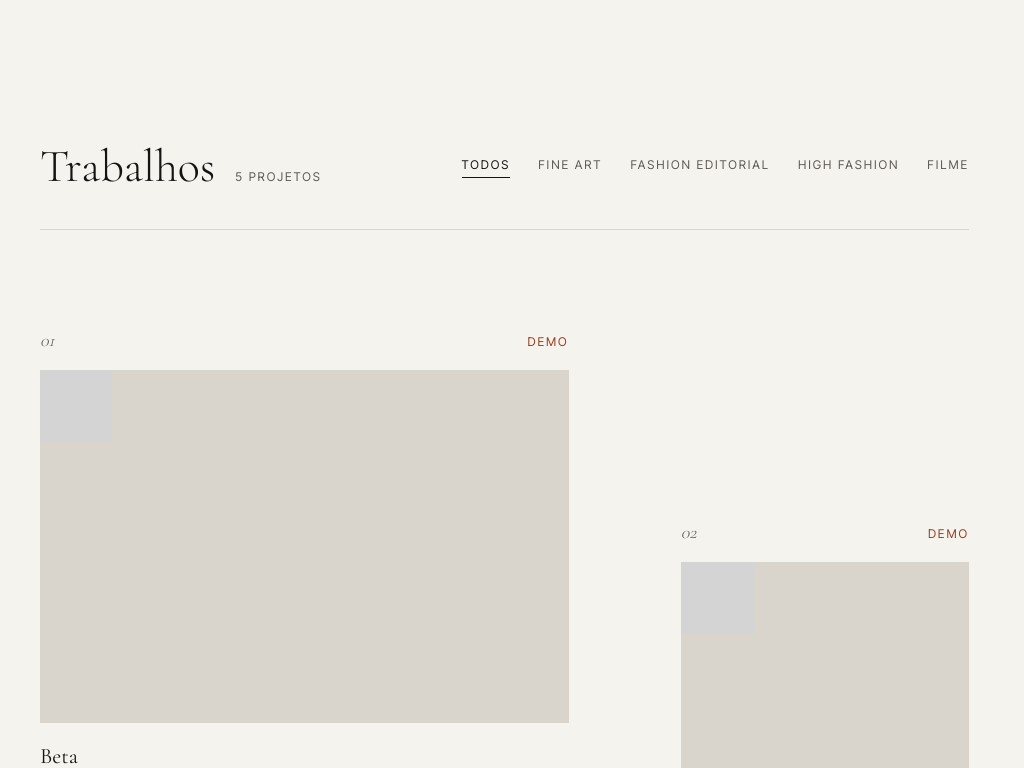
EditorialGrid › CA-06: ao escolher uma categoria exibe só os projetos dela e atualiza o contador
Click the button "Fine Art". click: (570, 167)
box: [526,145,614,189]
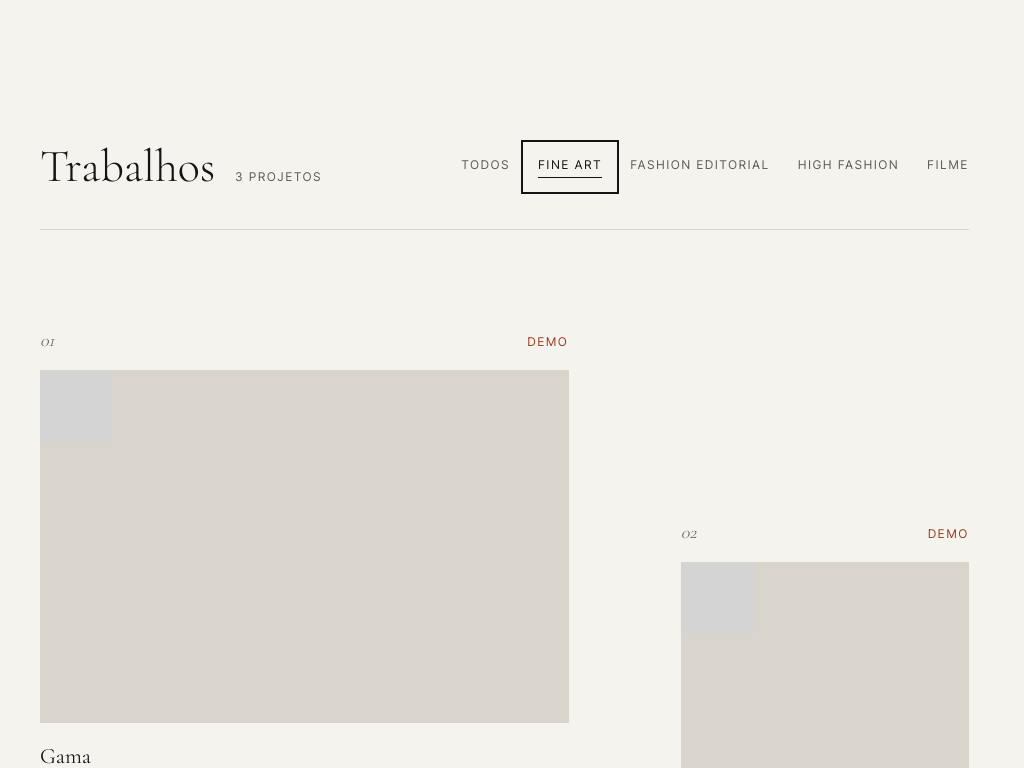
Expected: the text "3 projetos" is shown, [235,169,322,186]
Expected: the button "Fine Art" is pressed, [526,145,614,189]
Expected: the button "Todos" is not pressed, [450,145,522,189]
Click the button "High Fashion". click: (849, 167)
box: [786,145,911,189]
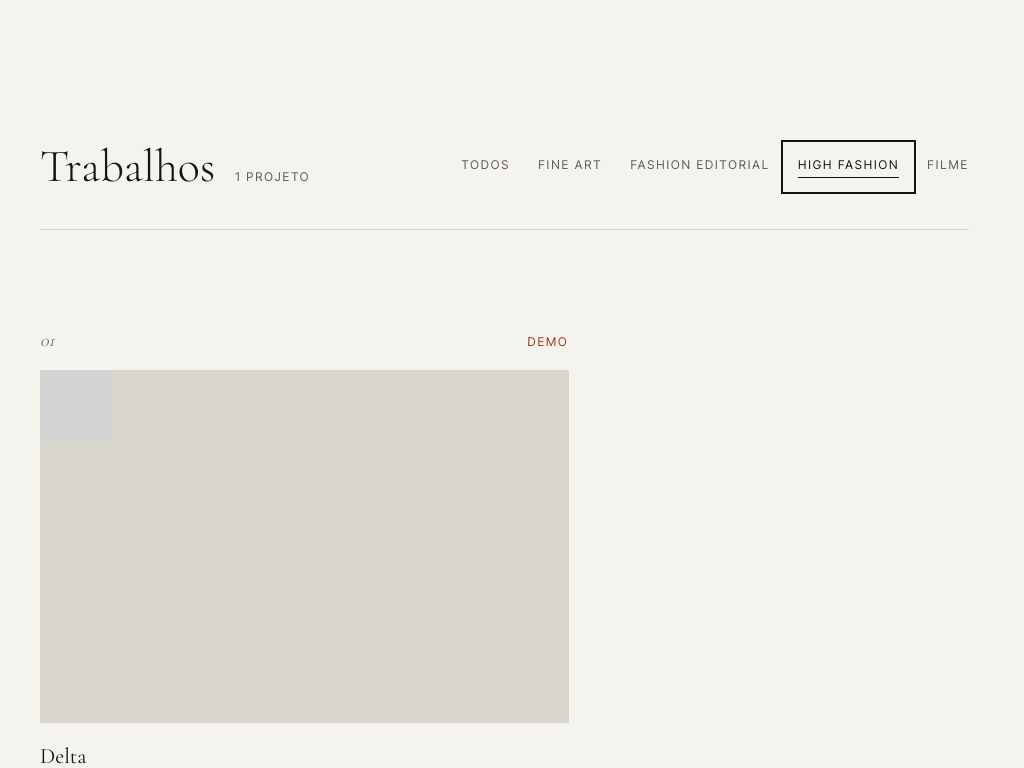
Expected: the text "1 projeto" is shown, [235,169,310,186]
Click the button "Todos". click: (486, 167)
box: [450,145,522,189]
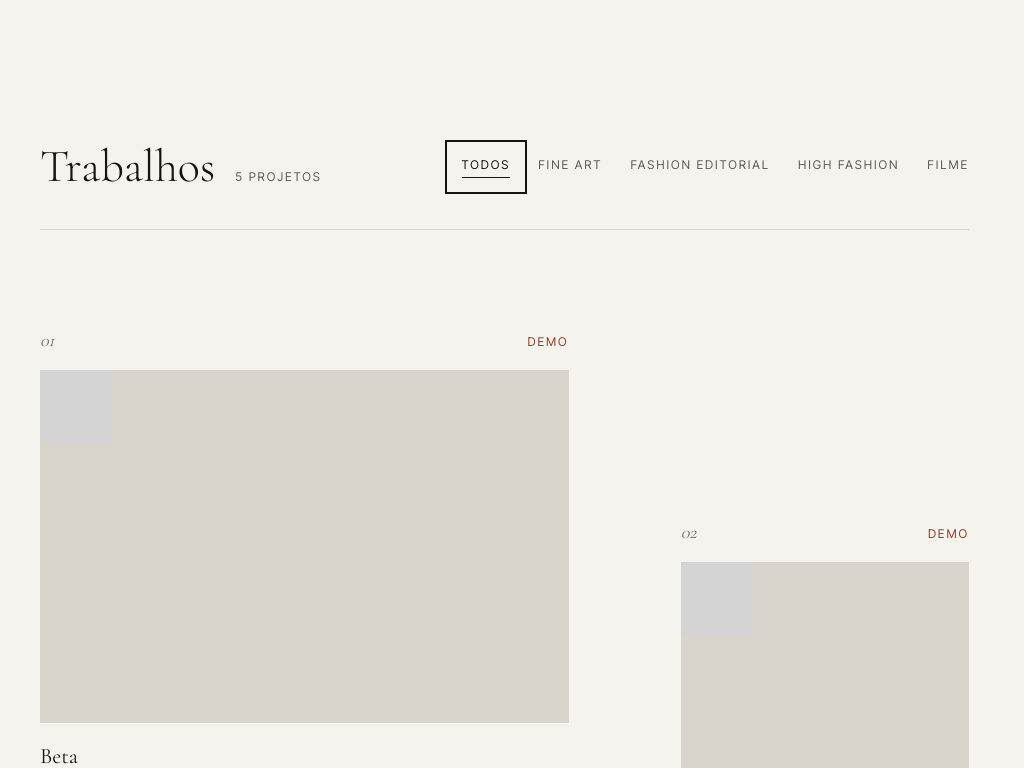
Expected: the text "5 projetos" is shown, [235,169,322,186]
Expected: the number of links is 5
